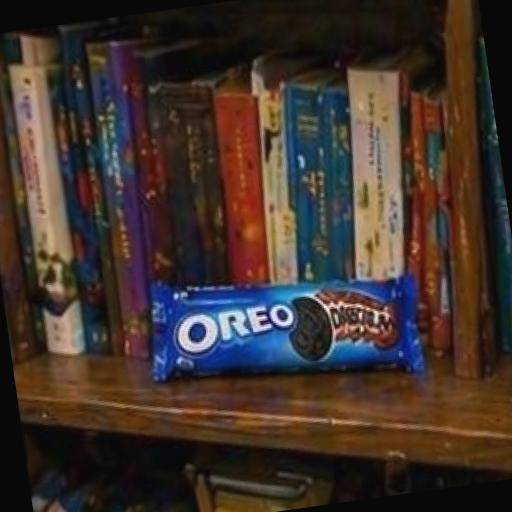oreo: (96, 192, 480, 482)
